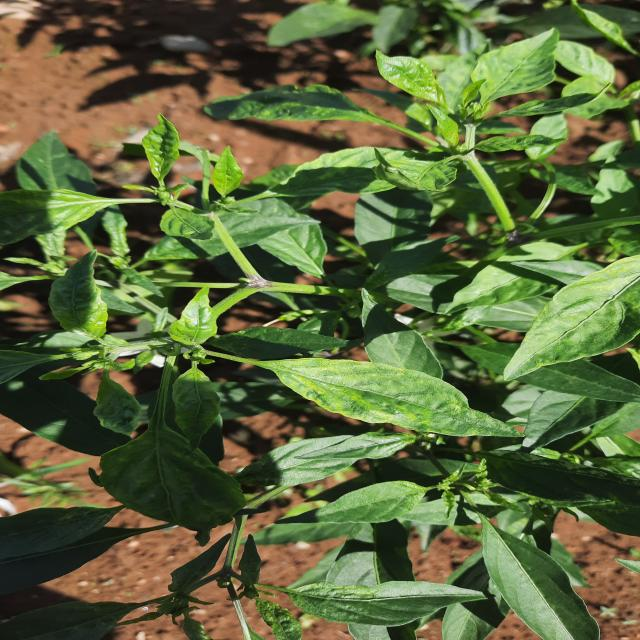thrips: (245, 347, 509, 445), (486, 246, 640, 382), (438, 22, 574, 106)
